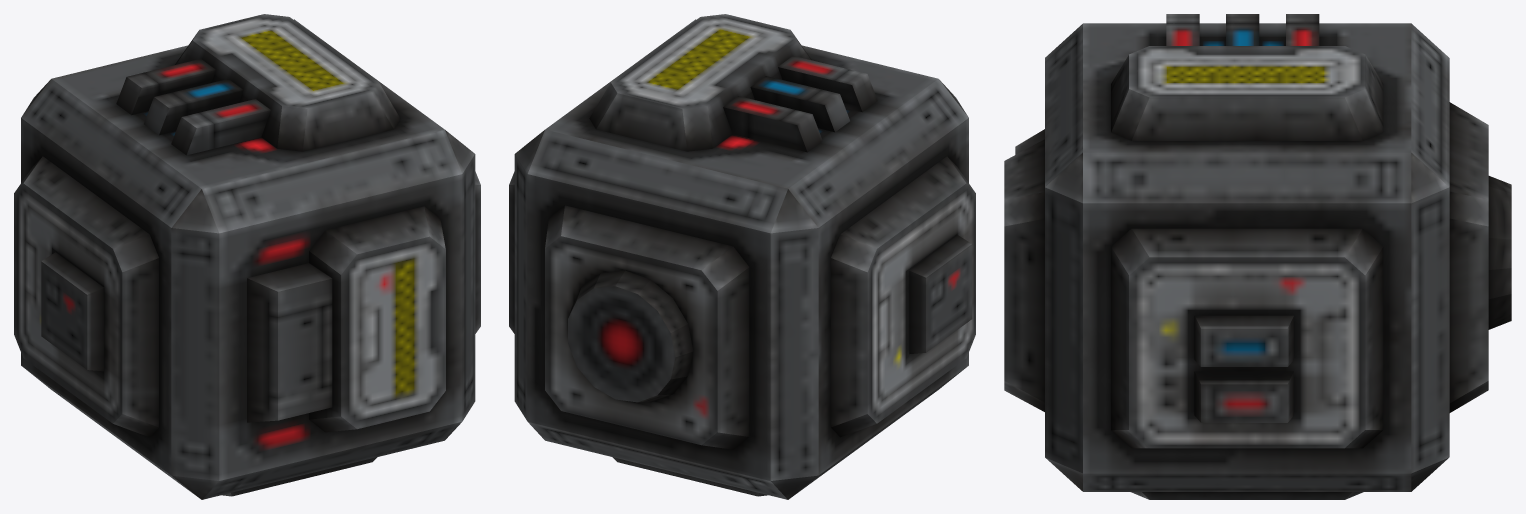
Rendered from containmentUnit.obj.
3 renders of one model, left to right at view 1: azimuth 30°, elevation 25°; view 2: azimuth 150°, elevation 25°; view 3: azimuth 270°, elevation 25°, orthographic. The views are drawn at different scales.
Visible parts, largest first — view 1: sci_fi_spa_sci_fi_spa.003; view 2: sci_fi_spa_sci_fi_spa.003; view 3: sci_fi_spa_sci_fi_spa.003.
Boxes of the visible parts, left/top/right/bottom form: sci_fi_spa_sci_fi_spa.003: left=14, top=14, right=480, bottom=499; sci_fi_spa_sci_fi_spa.003: left=509, top=14, right=975, bottom=499; sci_fi_spa_sci_fi_spa.003: left=1004, top=14, right=1511, bottom=499.
Size of the model in its own units: 1.28 by 1.18 by 1.31.
